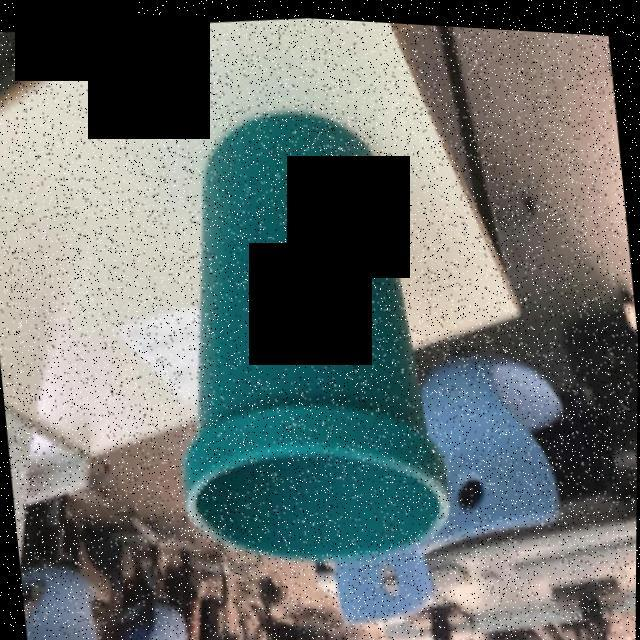bin: (133, 66, 470, 599)
